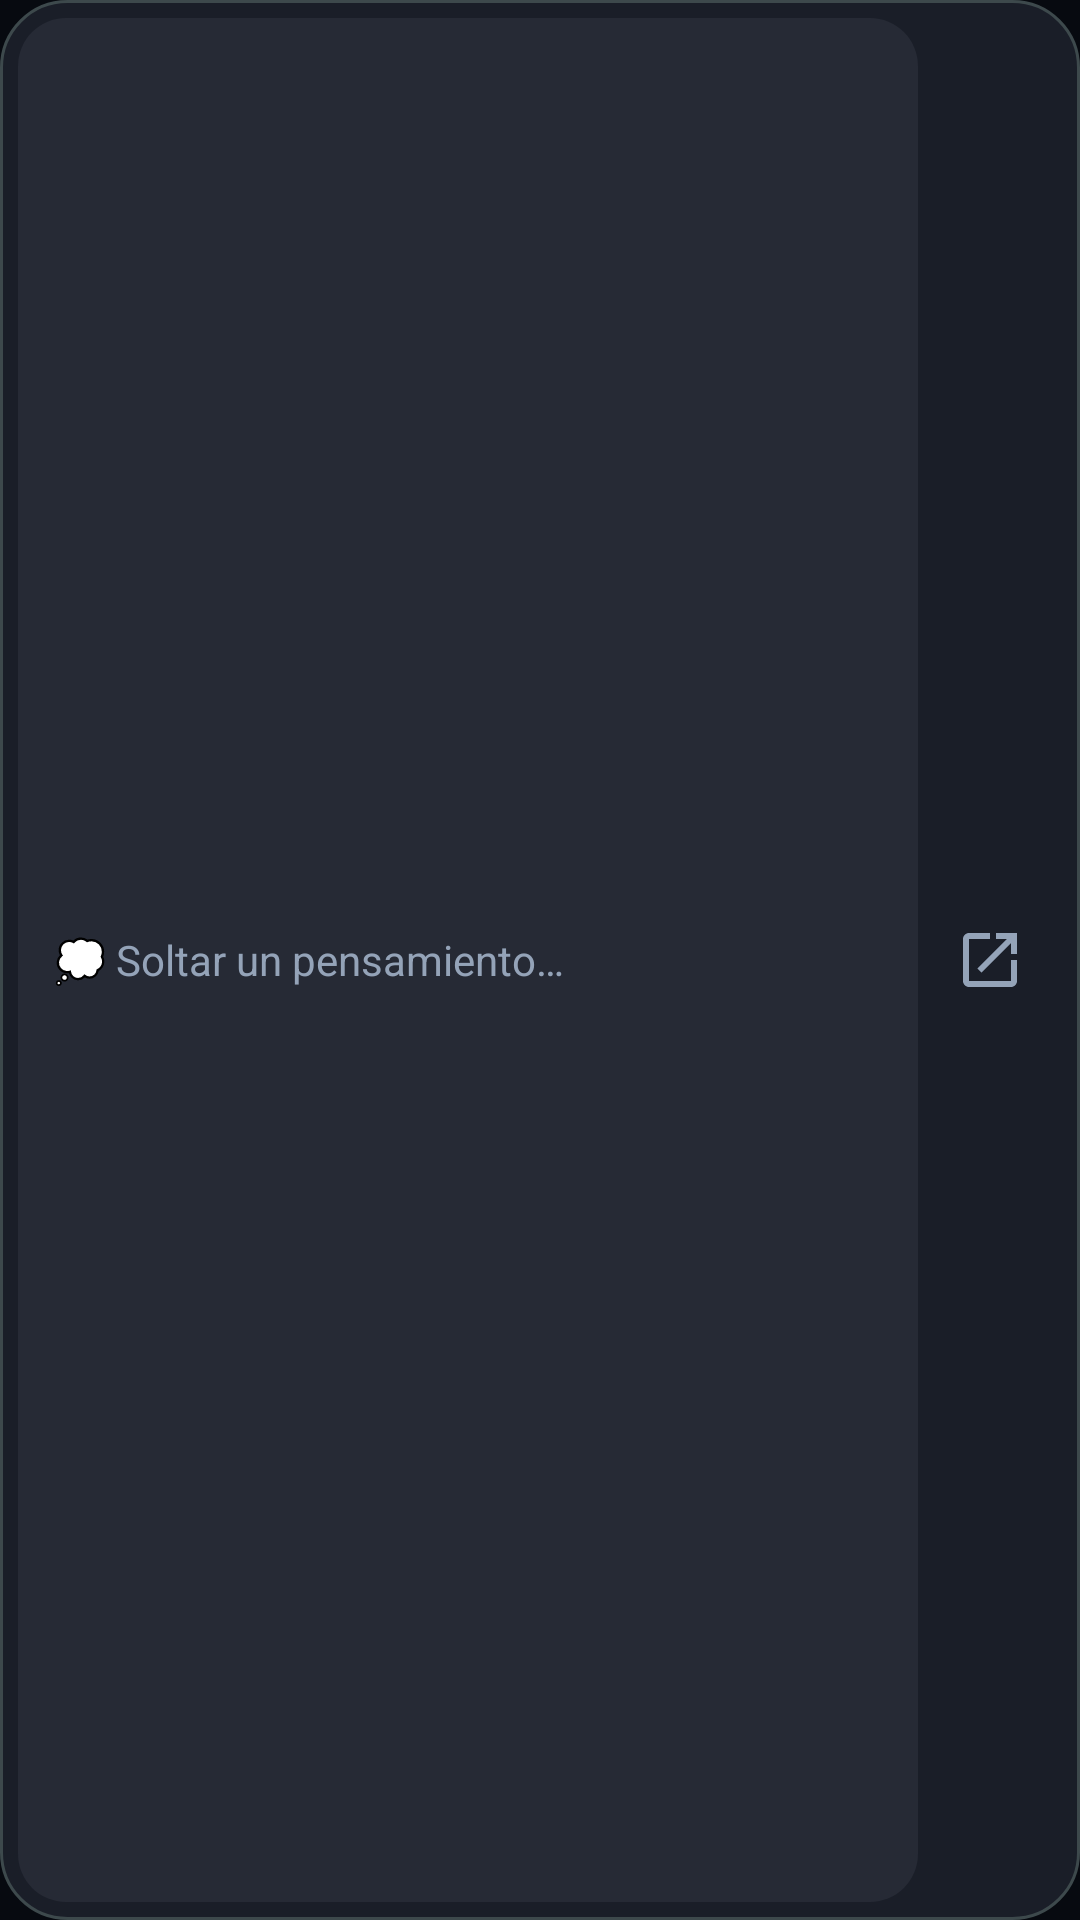

Where icons sit on this 1080w x 1920h app screen, as (x1, y1, x2, y2):
Abrir Nexus Orb: (963, 933, 1017, 987)
